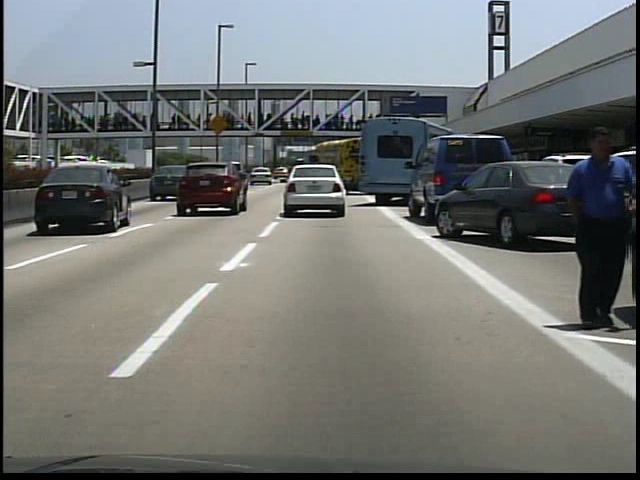person: (555, 123, 622, 330)
